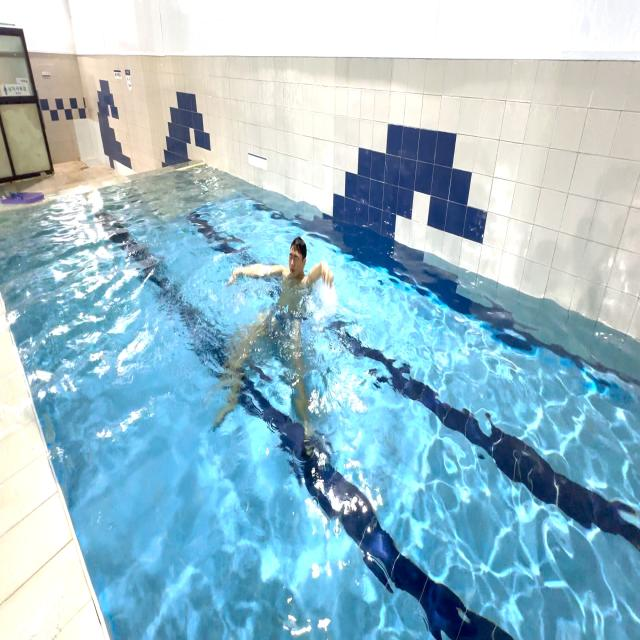Drowning: (213, 215, 337, 457)
